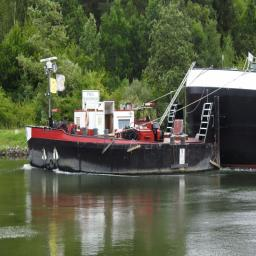tugboat: (26, 56, 224, 182)
